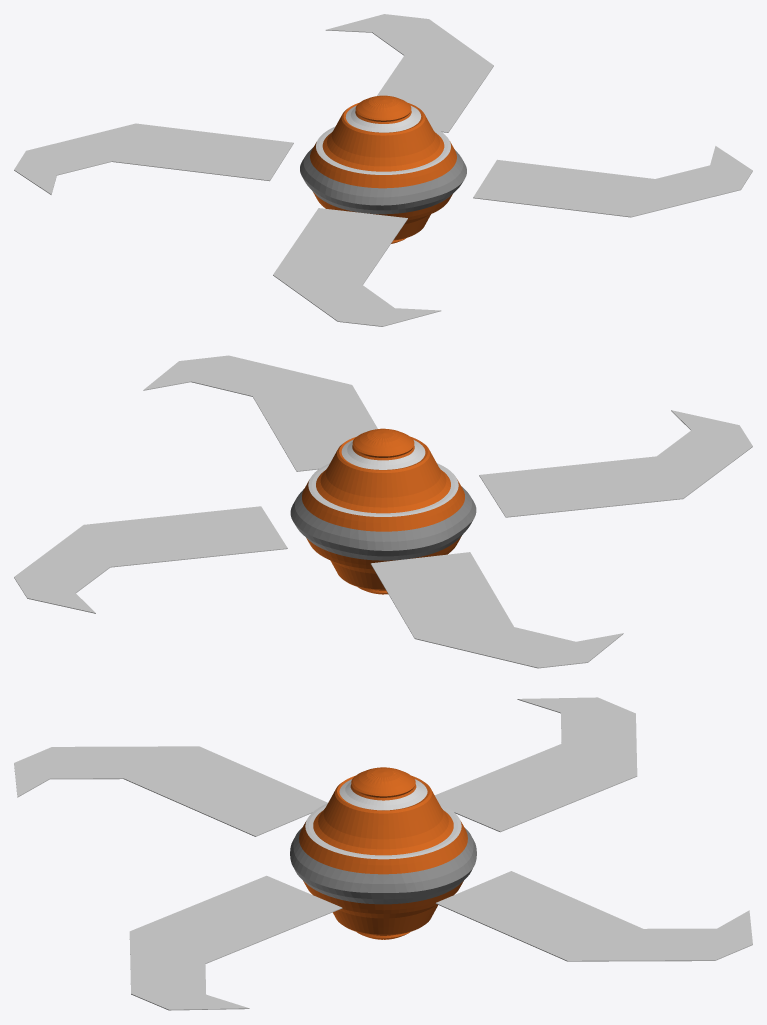
File: spinning_blade_model.glb
The picture shows the model from 3 angles, top to bottom: view 1: azimuth 30°, elevation 25°; view 2: azimuth 150°, elevation 25°; view 3: azimuth 270°, elevation 25°; orthographic projection. The views are drawn at different scales.
Parts seen in each view (by area): view 1: Material_4-material (×4), Material_1-material, Material_3-material, Material_2-material; view 2: Material_4-material (×4), Material_1-material, Material_3-material, Material_2-material; view 3: Material_4-material (×4), Material_1-material, Material_3-material, Material_2-material.
Boxes of the visible parts, x1,y1,x2,y2 form: Material_4-material (×4): [14, 14, 752, 326]; Material_1-material: [310, 95, 456, 243]; Material_3-material: [300, 147, 466, 214]; Material_2-material: [316, 105, 450, 174]; Material_4-material (×4): [14, 355, 752, 668]; Material_1-material: [302, 428, 464, 594]; Material_3-material: [290, 486, 476, 560]; Material_2-material: [308, 440, 458, 516]; Material_4-material (×4): [14, 697, 752, 1010]; Material_1-material: [299, 767, 467, 939]; Material_3-material: [290, 827, 476, 904]; Material_2-material: [305, 779, 461, 859].
Size of the model in its own units: 3.3 by 0.8012 by 3.3.
